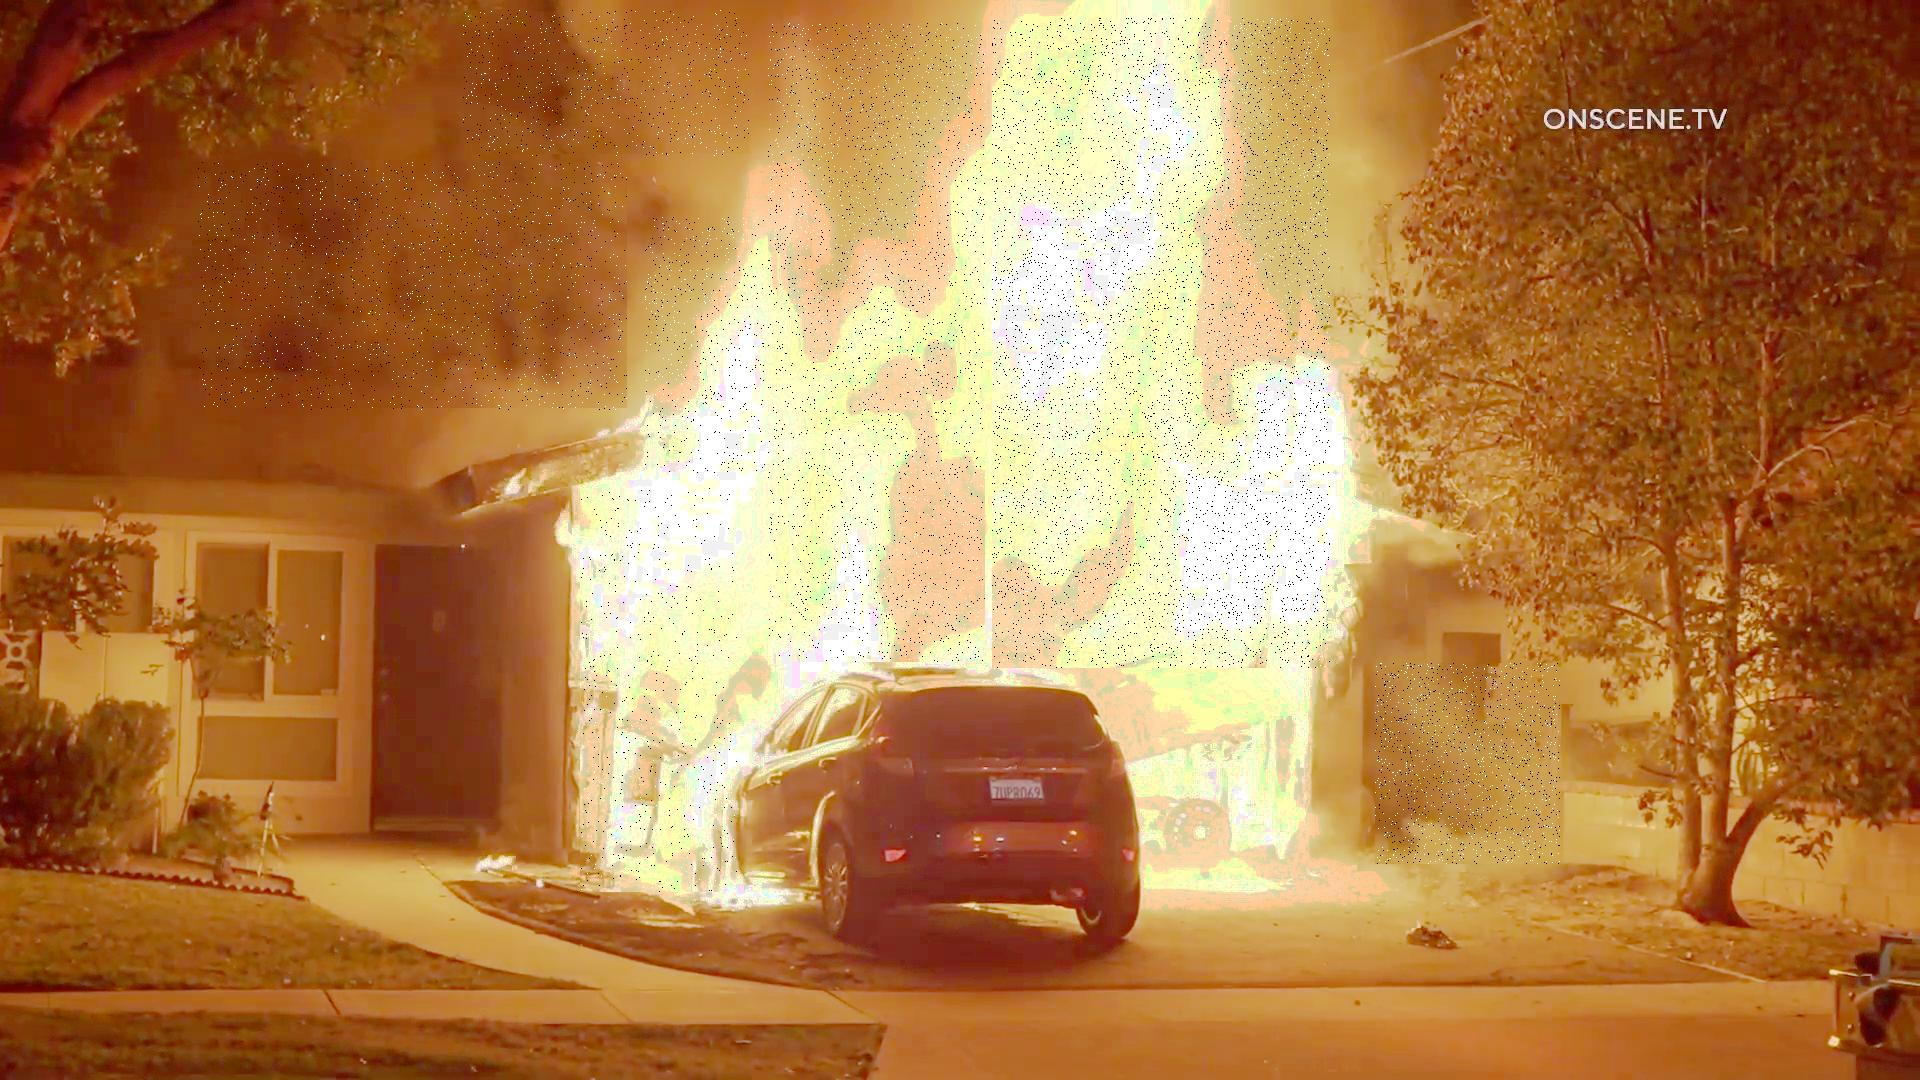fire: (993, 18, 1331, 669), (767, 24, 985, 662), (580, 488, 737, 893), (645, 218, 765, 475)
smoke: (198, 162, 628, 410), (463, 11, 749, 157), (1375, 663, 1561, 864)
